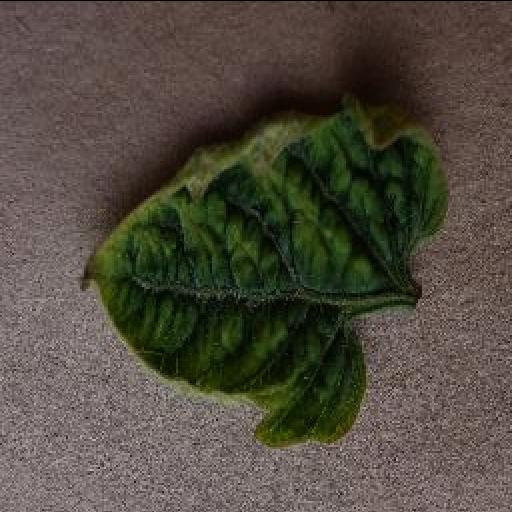disease_tomato: (78, 96, 452, 448)
